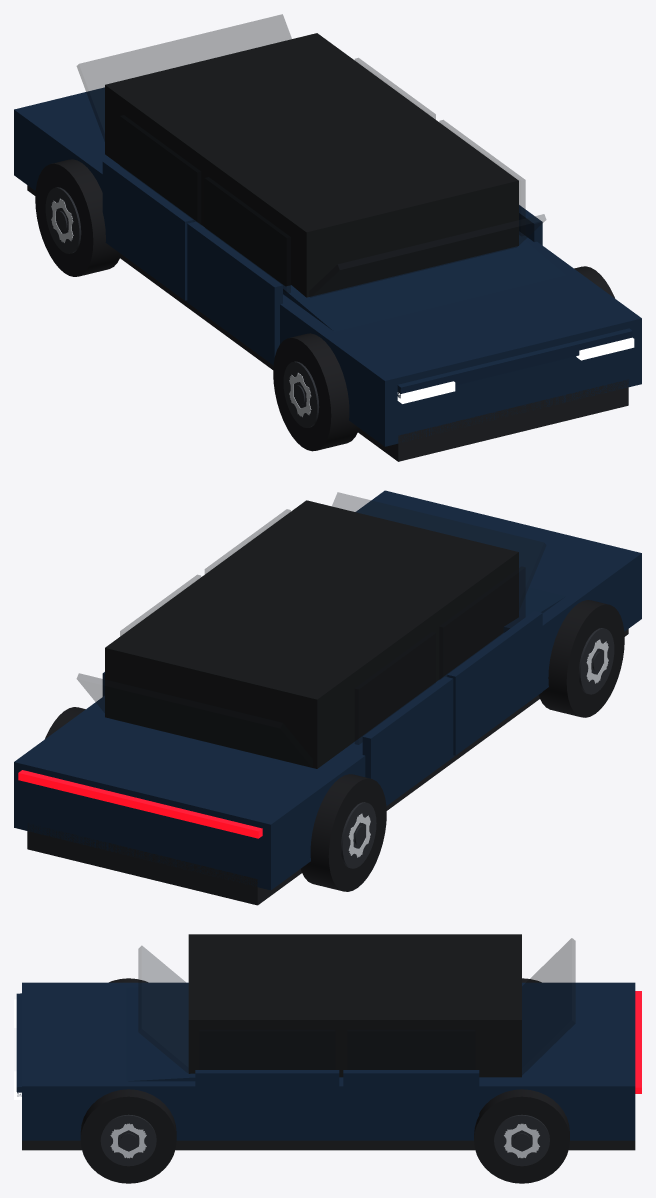
Rendered from sedan.glb.
3 renders of one model, top to bottom at view 1: azimuth 30°, elevation 25°; view 2: azimuth 150°, elevation 25°; view 3: azimuth 270°, elevation 25°, orthographic. The views are drawn at different scales.
Parts seen in each view (by area): view 1: Body, Hood, Door_F_L, Door_R_L, Wheel_FL, Wheel_RL, Door_F_R; view 2: Body, Door_F_L, Door_R_L, Wheel_RL, Wheel_FL, Hood; view 3: Body, Door_F_R, Door_R_R, Wheel_FR, Wheel_RR, Hood.
Part boxes in pixels (x1,y1,x2,y2): Body: (14,14,641,461); Hood: (283,236,632,398); Door_F_L: (187,177,290,365); Door_R_L: (102,115,200,300); Wheel_FL: (273,333,359,451); Wheel_RL: (35,159,121,276); Door_F_R: (439,120,542,245); Body: (14,490,641,905); Door_F_L: (439,566,542,755); Door_R_L: (355,632,453,805); Wheel_RL: (301,774,386,891); Wheel_FL: (538,600,624,717); Hood: (503,585,565,632); Body: (14,934,641,1150); Door_F_R: (195,1030,339,1138); Door_R_R: (343,1030,479,1138); Wheel_FR: (80,1089,176,1183); Wheel_RR: (474,1089,569,1183); Hood: (16,984,195,1096).
Size of the model in its own units: 2.15 by 1.22 by 4.71.
